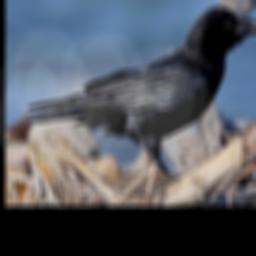Crow: (20, 6, 256, 183)
